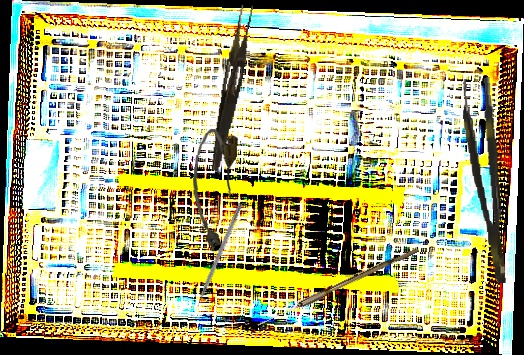Cannula: (187, 127, 239, 254)
Dressing Forceps: (208, 3, 255, 173)
Hook Surgical: (190, 202, 244, 316)
Surgical Spoon: (256, 244, 419, 330)
Tissue Forceps: (460, 77, 509, 285)
